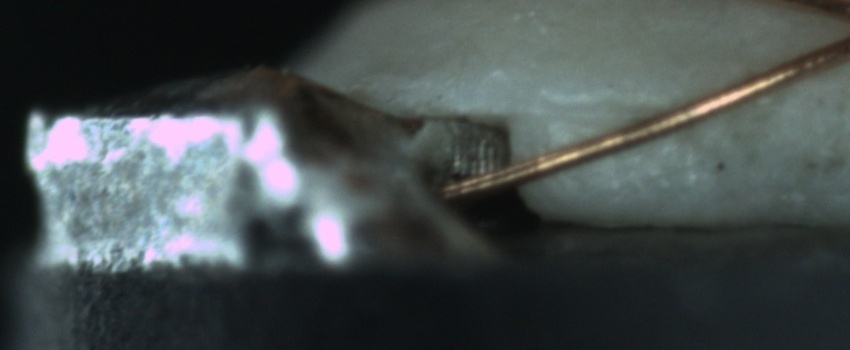DL: (539, 78, 671, 143)
